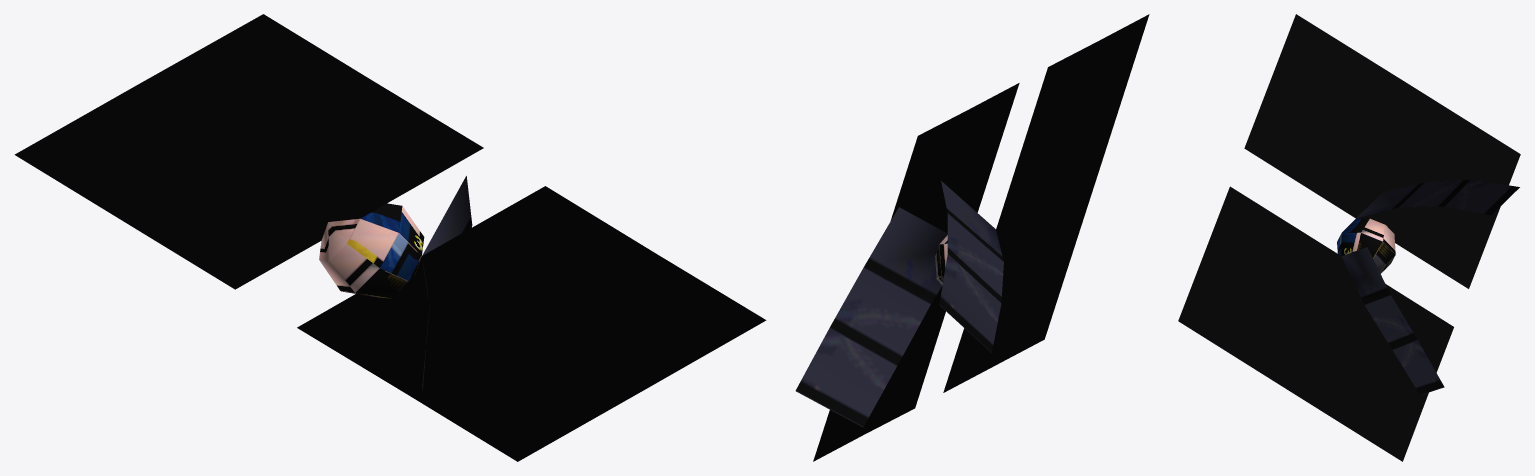
The picture shows the model from 3 angles, left to right: view 1: azimuth 30°, elevation 25°; view 2: azimuth 150°, elevation 25°; view 3: azimuth 270°, elevation 25°; orthographic projection. The views are drawn at different scales.
Parts seen in each view (by area): view 1: T1L3M005_10; view 2: T1L3M005_10; view 3: T1L3M005_10.
Part boxes in pixels (x1,y1,x2,y2): T1L3M005_10: (14,14,766,461); T1L3M005_10: (795,14,1149,461); T1L3M005_10: (1178,14,1520,461).
Size of the model in its own units: 0.7775 by 0.9711 by 0.8627.
